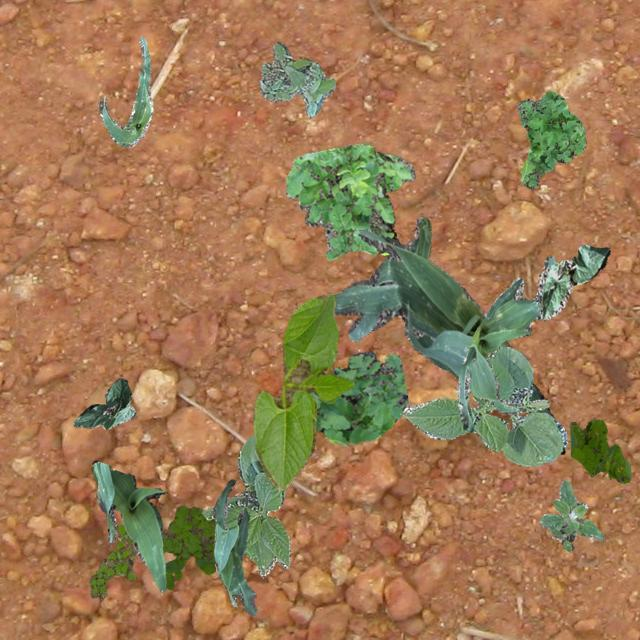crop: (332, 214, 552, 416), (252, 292, 352, 490), (402, 346, 566, 464), (456, 254, 554, 432), (200, 434, 290, 576), (90, 460, 166, 590), (98, 34, 152, 146), (212, 478, 255, 614), (538, 243, 610, 320), (72, 378, 134, 428)
weed: (284, 142, 414, 258), (308, 350, 408, 444), (516, 90, 586, 188), (258, 42, 334, 116), (538, 478, 604, 550), (162, 504, 214, 588), (568, 418, 630, 482), (88, 522, 136, 600)
